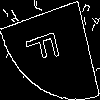F: (24, 25, 67, 69)
